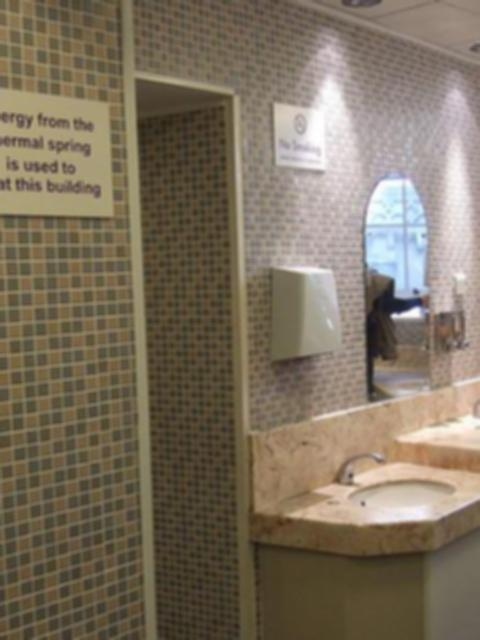Lavamanos: (313, 442, 471, 559), (473, 386, 480, 440)
